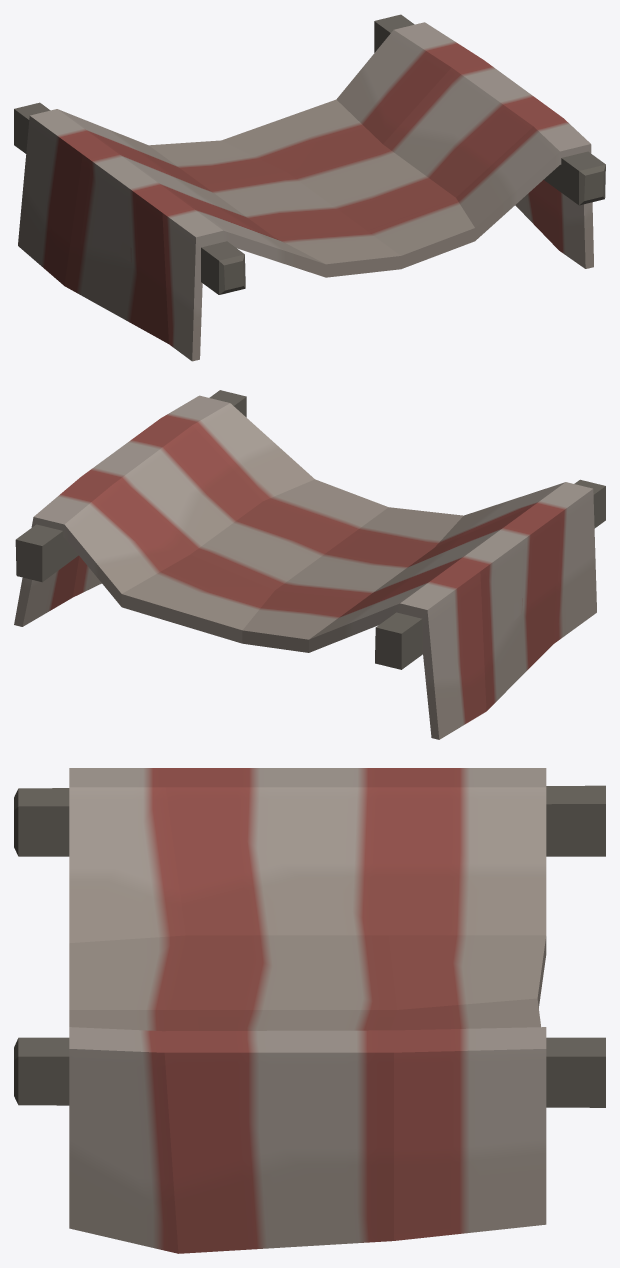
Rendered from SM_Bld_Village_ClothCover_Small_02.fbx.
The picture shows the model from 3 angles, top to bottom: view 1: azimuth 30°, elevation 25°; view 2: azimuth 150°, elevation 25°; view 3: azimuth 270°, elevation 25°; orthographic projection. The views are drawn at different scales.
Parts seen in each view (by area): view 1: SM_Bld_Village_ClothCover_Small_02; view 2: SM_Bld_Village_ClothCover_Small_02; view 3: SM_Bld_Village_ClothCover_Small_02.
Part boxes in pixels (bbox=[...]): SM_Bld_Village_ClothCover_Small_02: bbox=[14, 14, 605, 361]; SM_Bld_Village_ClothCover_Small_02: bbox=[14, 390, 605, 739]; SM_Bld_Village_ClothCover_Small_02: bbox=[14, 768, 605, 1253].
Bounding box in the file's own units: 243 × 75.22 × 203.
